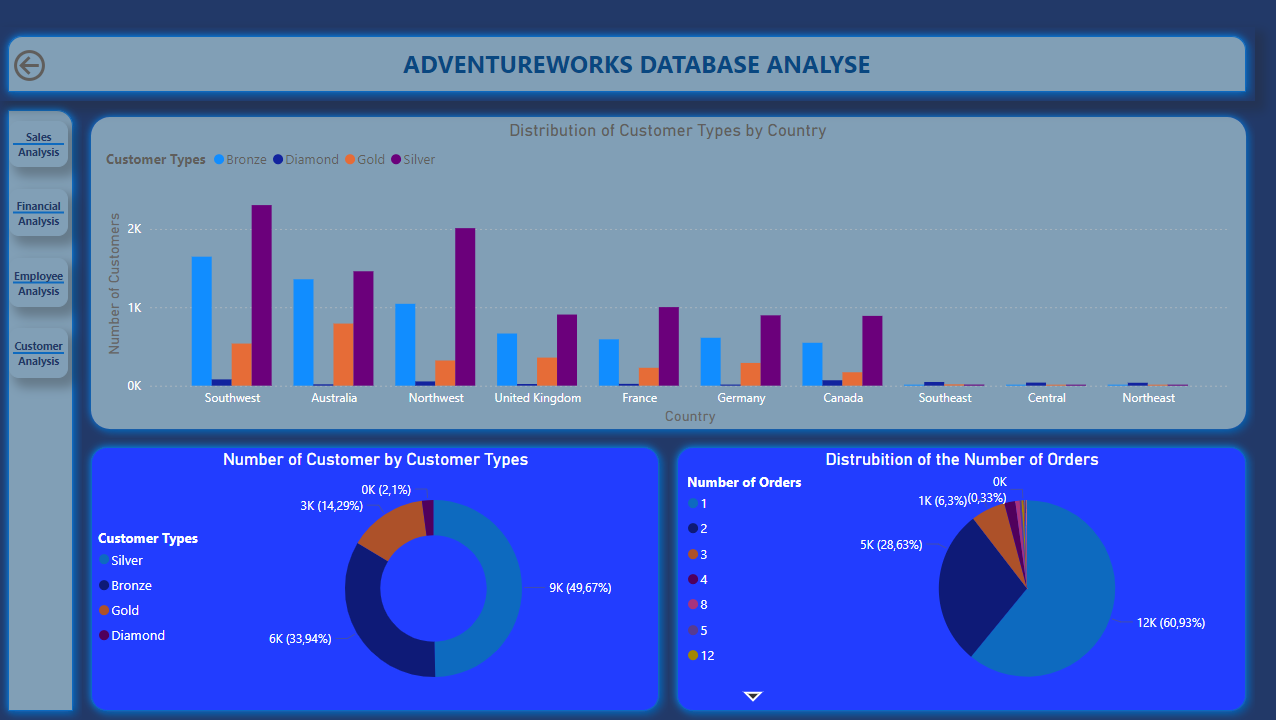

This screenshot's page, from the dashboard's own definition file:
{"tool":"powerbi","page":{"name":"CustomerAnalysis","canvas":[1280,720],"ordinal":3},"visuals":[{"type":"shape","box":[82.7,107.7,1173.1,330.8],"z":0},{"type":"shape","box":[669.2,438.3,586.5,281.7],"z":1000},{"type":"shape","box":[82.7,438.3,586.5,281.7],"z":2000},{"type":"pieChart","title":"Distrubition of the Number of Orders","fields":{"Y":["Sum(Query1.numberofcustomer)"],"Category":["Query1.totalorders"]},"box":[682.7,449,560.6,259.6],"z":3000},{"type":"donutChart","title":"Number of Customer by Customer Types","fields":{"Category":["MüşteriTipleri.customertype"],"Y":["Sum(MüşteriTipleri.numberofcustomer)"]},"box":[94.2,449,564.4,259.6],"z":4000},{"type":"clusteredColumnChart","title":"Distribution of Customer Types by Country","fields":{"Category":["ÜlkelereGöreMüşterilerinTipleri.name"],"Y":["Sum(ÜlkelereGöreMüşterilerinTipleri.numberofcustomer)"],"Series":["ÜlkelereGöreMüşterilerinTipleri.customertype"]},"box":[101.9,120.2,1133.7,308.7],"z":5000},{"type":"shape","box":[0,100.8,82.7,619.2],"z":6000},{"type":"shape","box":[0,26.9,1255.8,74],"z":7000},{"type":"textbox","box":[399,42.3,481.7,43.3],"z":8000},{"type":"actionButton","box":[9.6,45.2,100,40.4],"z":9000},{"type":"shape","box":[9.7,327.8,59.3,50.6],"z":13000},{"type":"shape","box":[9.7,257.8,59.3,49.6],"z":14000},{"type":"shape","box":[9.7,188.7,59.3,47.7],"z":15000},{"type":"shape","box":[9.7,120.6,59.3,46.7],"z":15001}]}

Visuals, with their boxes on the page's 1280x720 design canvas (x1, y1, x2, y2). These are canvas units, not pixel positions in the 1276x720 screenshot, which may show the page scaled, cropped or inside an application window:
shape: select_region(83, 108, 1256, 438)
shape: select_region(669, 438, 1256, 720)
shape: select_region(83, 438, 669, 720)
"Distrubition of the Number of Orders" pieChart: select_region(683, 449, 1243, 709)
"Number of Customer by Customer Types" donutChart: select_region(94, 449, 659, 709)
"Distribution of Customer Types by Country" clusteredColumnChart: select_region(102, 120, 1236, 429)
shape: select_region(0, 101, 83, 720)
shape: select_region(0, 27, 1256, 101)
textbox: select_region(399, 42, 881, 86)
actionButton: select_region(10, 45, 110, 86)
shape: select_region(10, 328, 69, 378)
shape: select_region(10, 258, 69, 307)
shape: select_region(10, 189, 69, 236)
shape: select_region(10, 121, 69, 167)
